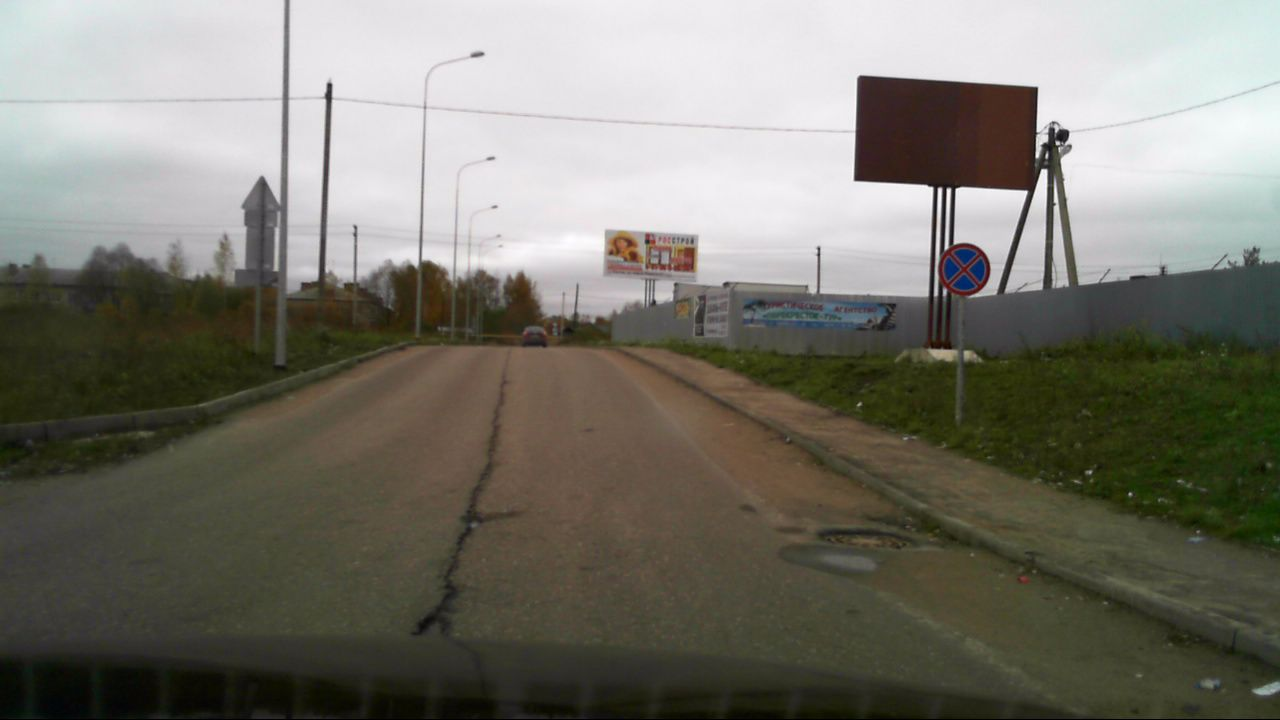No Parking: (938, 242, 993, 297)
